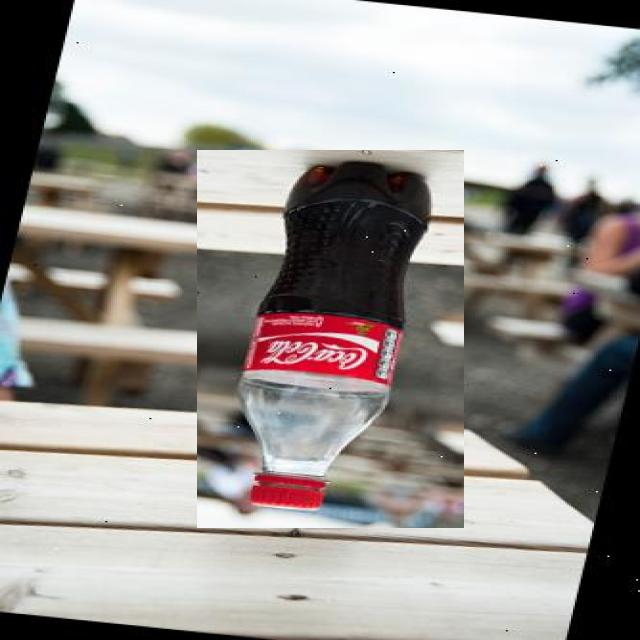coca-cola: (197, 150, 464, 528)
